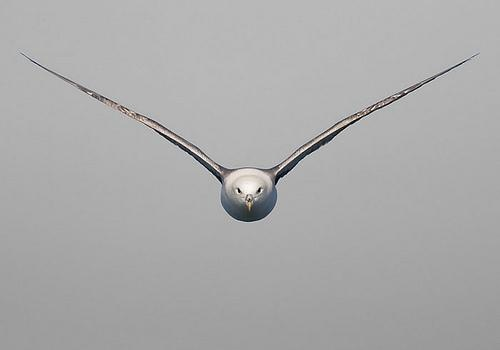bird: (20, 48, 482, 214)
